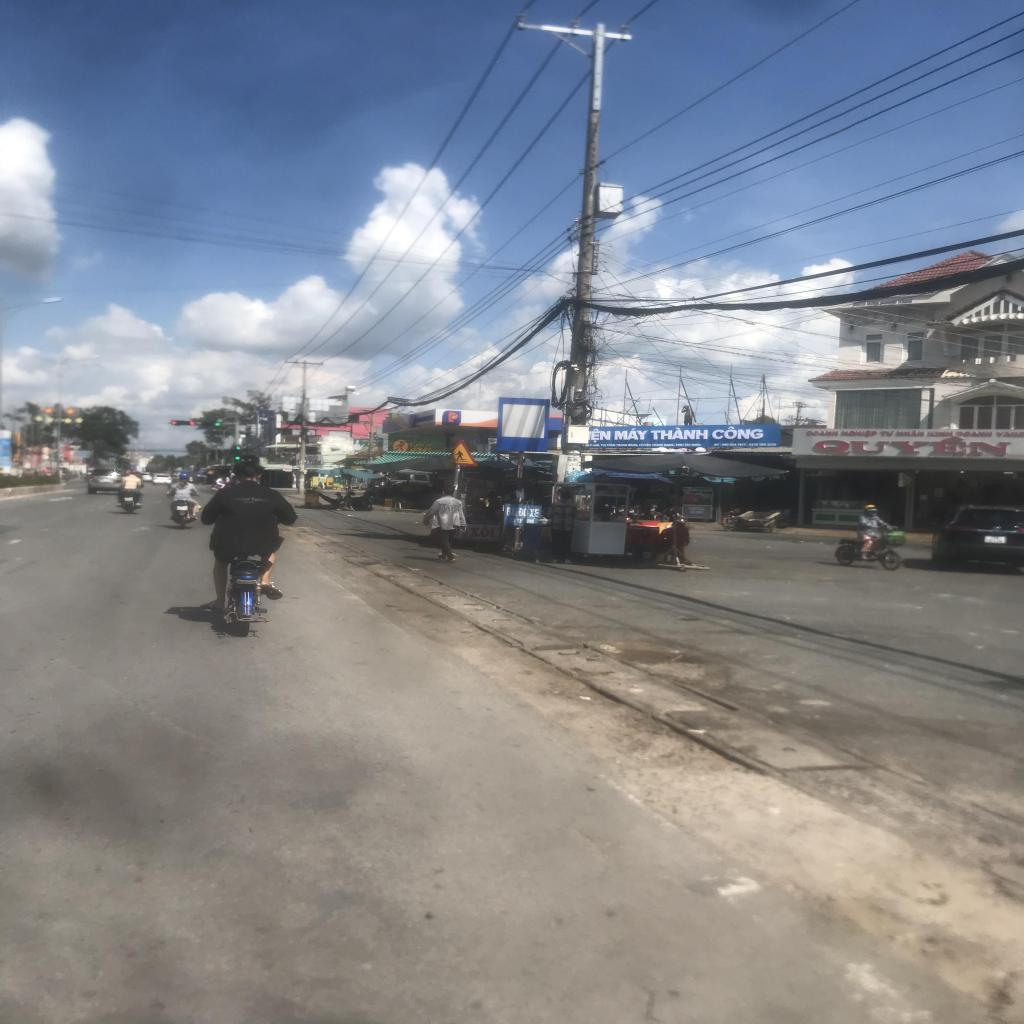chu_y_nguoi_di_bo_cat_ngang: (449, 440, 478, 466)
